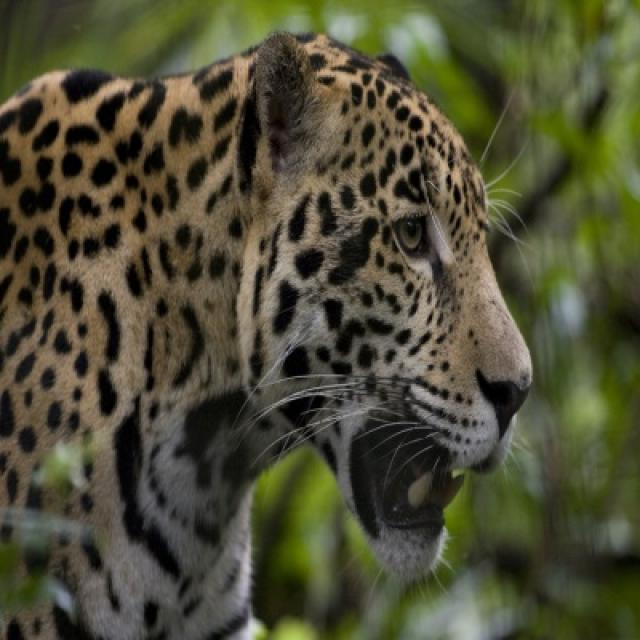Jaguar: (0, 30, 534, 638)
